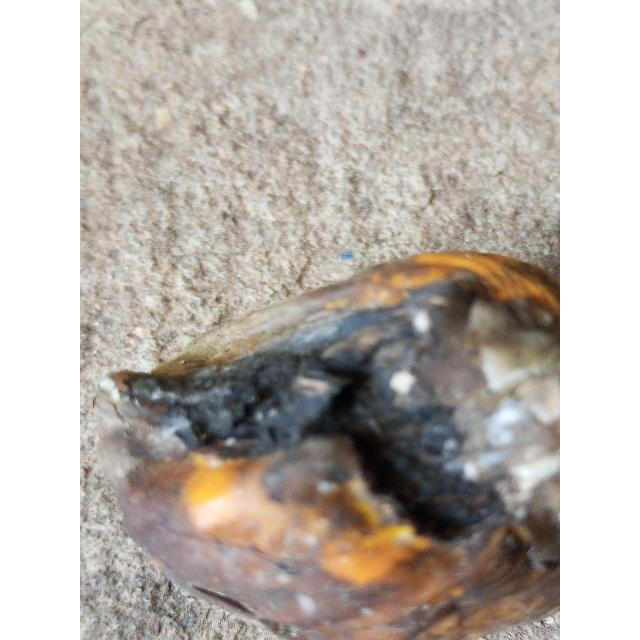damaged: (95, 253, 560, 640)
